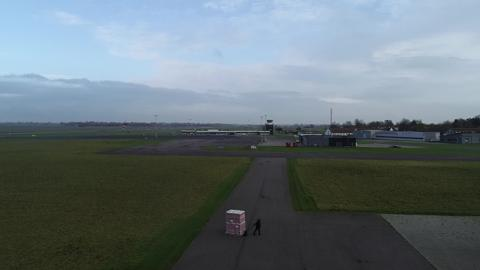RockwoolPallet: (226, 208, 248, 237)
